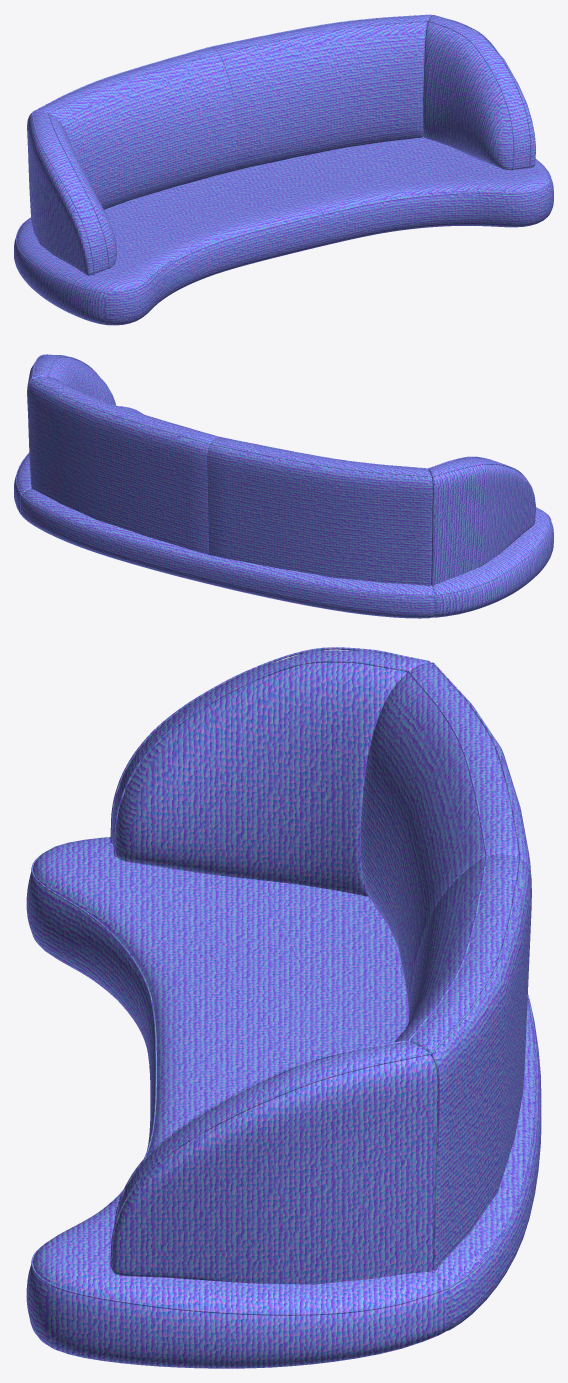
File: levante_sofa_3.gltf
3 renders of one model, top to bottom at view 1: azimuth 30°, elevation 25°; view 2: azimuth 150°, elevation 25°; view 3: azimuth 270°, elevation 25°, orthographic. The views are drawn at different scales.
Visible parts, largest first — view 1: sofa_3; view 2: sofa_3; view 3: sofa_3.
Boxes of the visible parts, x1,y1,x2,y2 form: sofa_3: [14, 14, 553, 325]; sofa_3: [14, 354, 553, 618]; sofa_3: [26, 647, 541, 1368].
Size of the model in its own units: 2.21 by 0.6228 by 1.01.
1 material, 1 textured.
